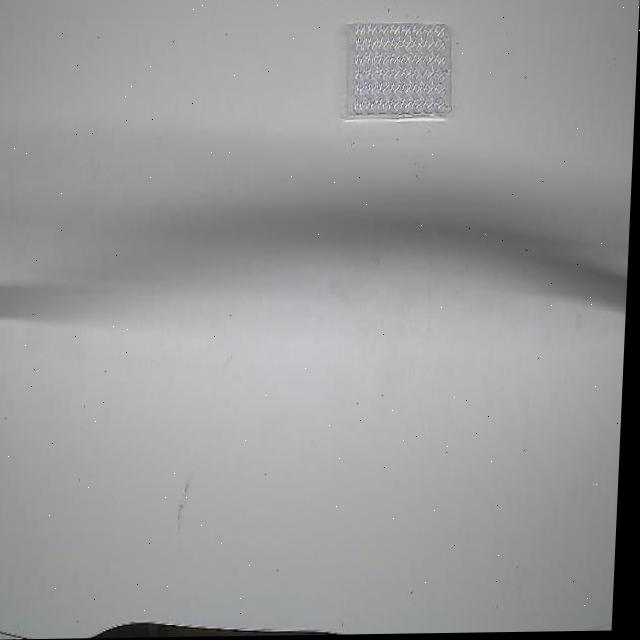Cell Culture Plate - 24: (345, 17, 460, 121)
